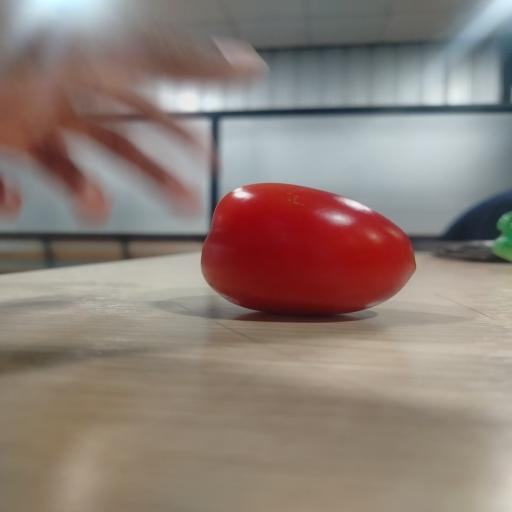ripe: (201, 183, 416, 315)
